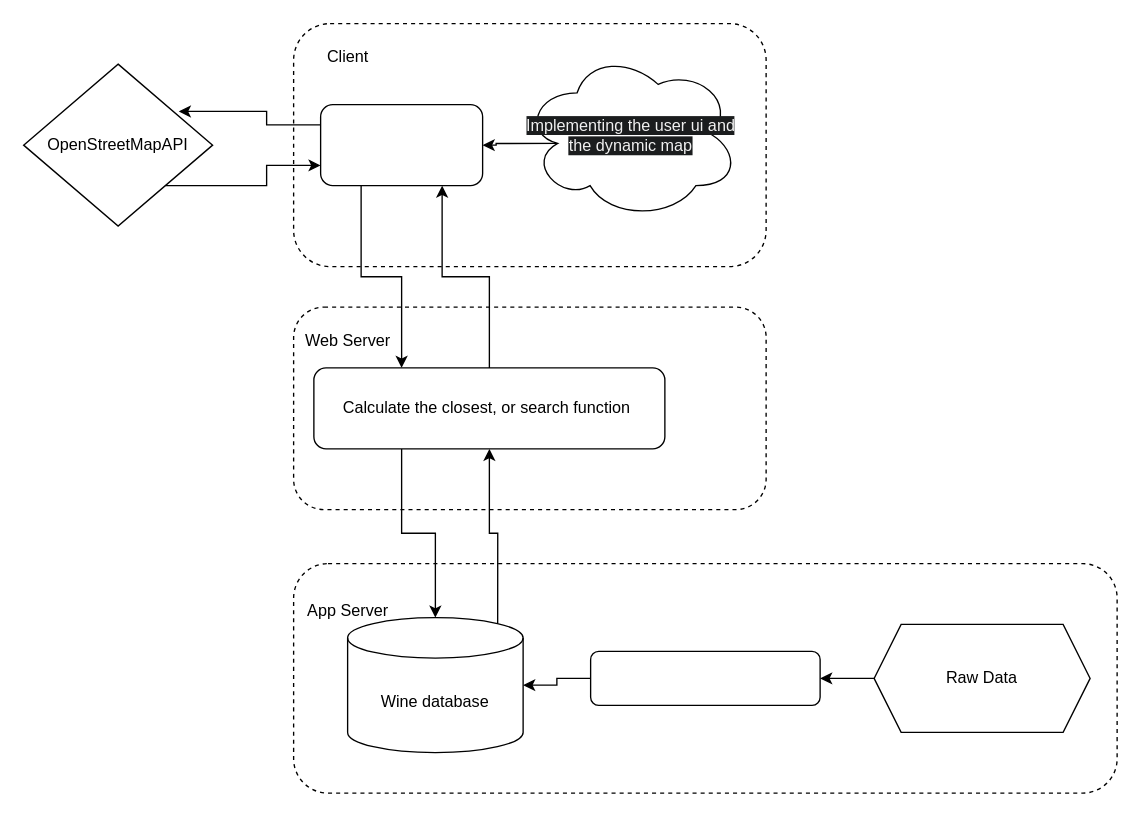
This 1141x817 diagram has some shape labels left out. The shapes that lost their labels are listed below. From the top down, each one's centre as x and y in pixels, then its label:
point (401, 144): Web Browser (React)
point (704, 677): Pipe and filter
